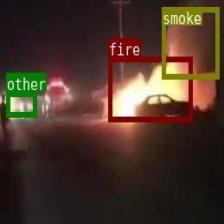fire: (108, 56, 192, 121)
smoke: (161, 7, 218, 78)
